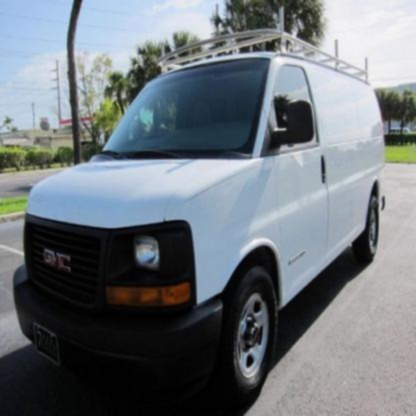Vehicle: (12, 7, 387, 412)
